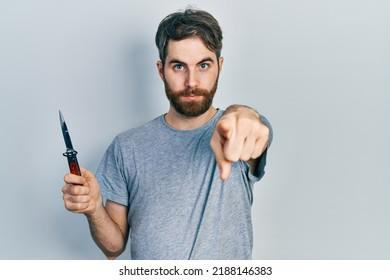Knife: (62, 11, 272, 259), (62, 166, 101, 212), (59, 110, 82, 175)
